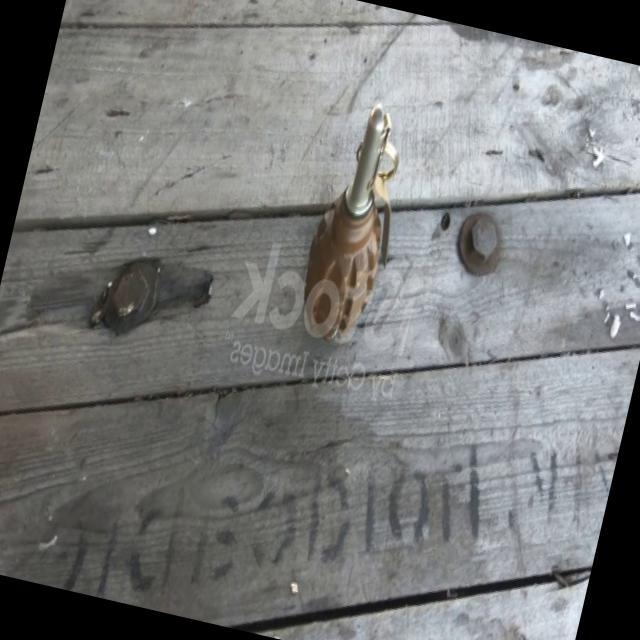grenade: (288, 90, 420, 366)
